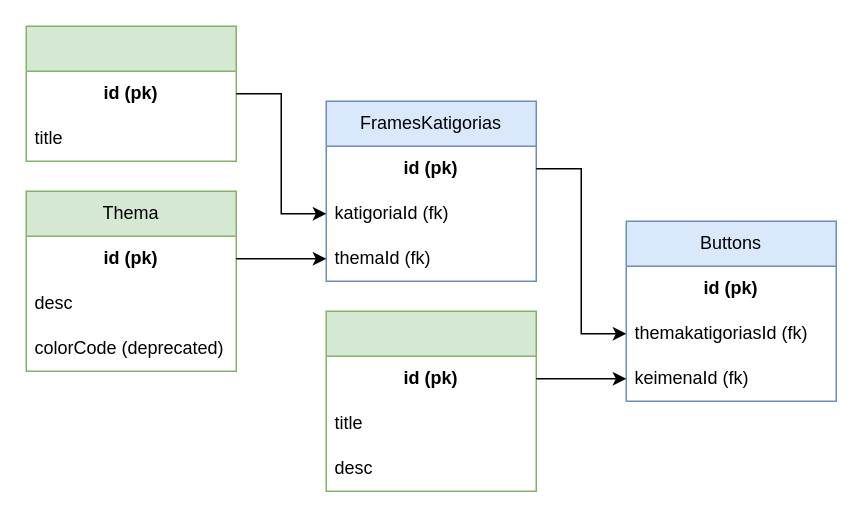
Some shapes in this 863 by 518 pixel diagram are drawn without their labels. The shapes that lost their labels are listed below. From the top down, each one's box as (x1, y1, x2, y2) in pixels, then its label:
(25, 25, 236, 161): katigoria
(325, 310, 536, 491): Keimena
